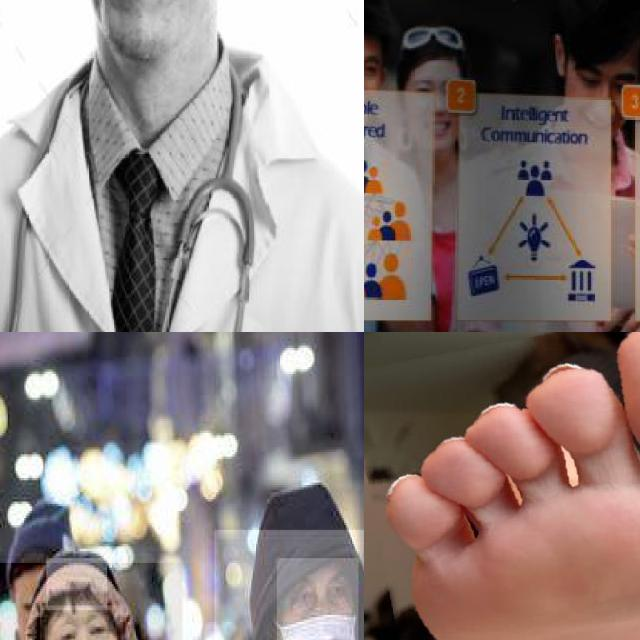Barefoots: (382, 332, 640, 640)
face_mask: (276, 558, 358, 640), (40, 605, 123, 640)
face_nomask: (413, 81, 458, 140)
glasses: (399, 22, 467, 50)
head_nohelmet: (261, 482, 357, 582), (46, 558, 108, 610)
person: (0, 0, 364, 332), (0, 563, 184, 640)
